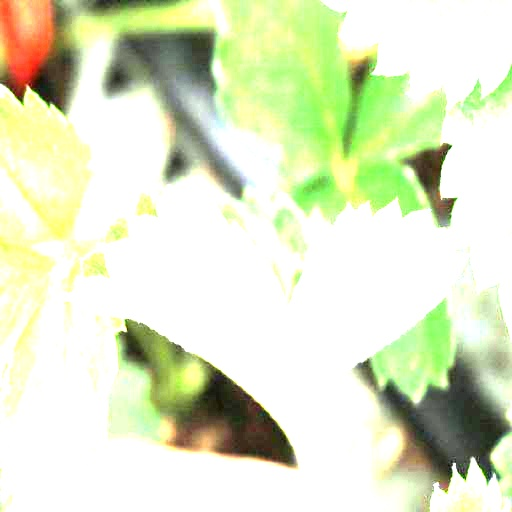Powdery Mildew Leaf: (60, 179, 306, 449), (285, 195, 474, 446)
